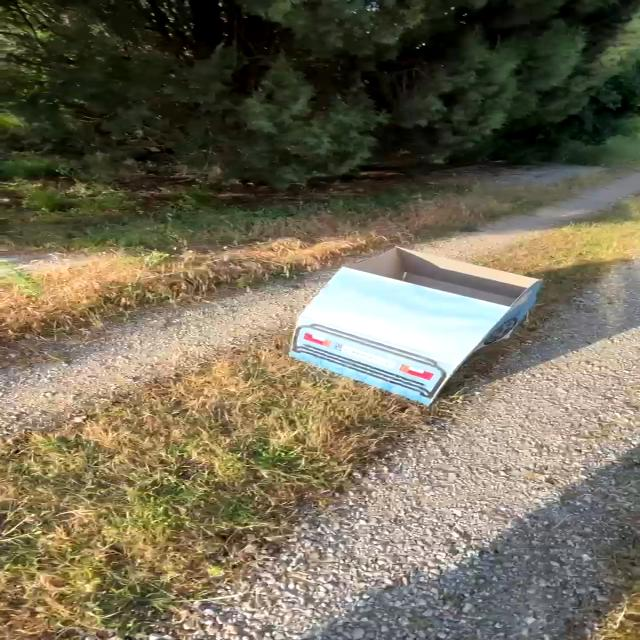blue_car: (260, 231, 558, 418)
